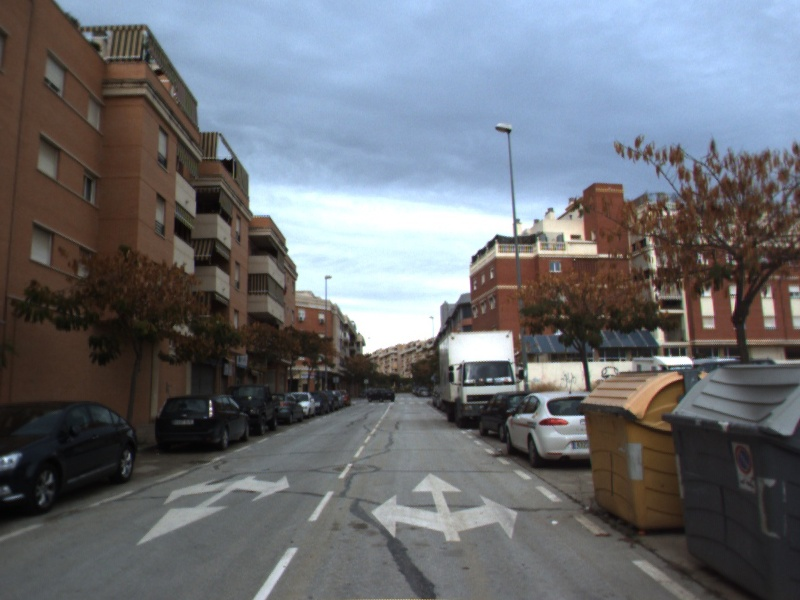STRAIGHT_LEFT_RIGHT: (369, 471, 520, 543)
